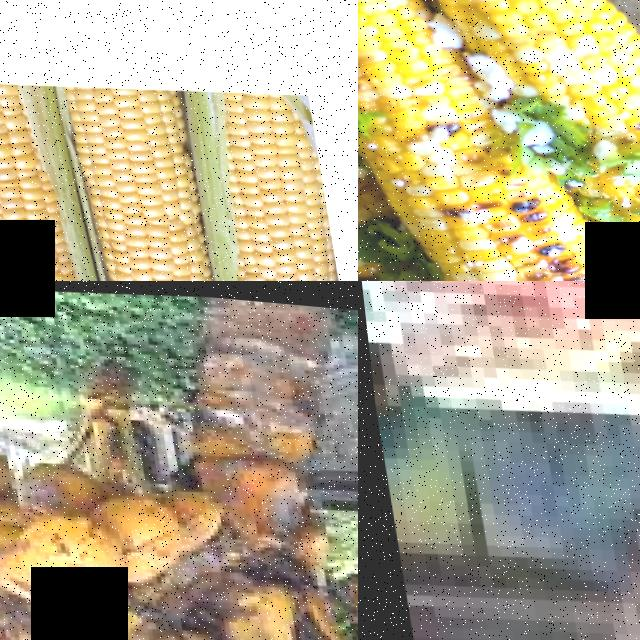coconuts: (0, 414, 191, 639)
corn: (382, 136, 632, 281), (60, 75, 224, 281), (204, 76, 347, 281), (435, 0, 640, 137), (358, 0, 471, 199), (0, 74, 94, 281)
